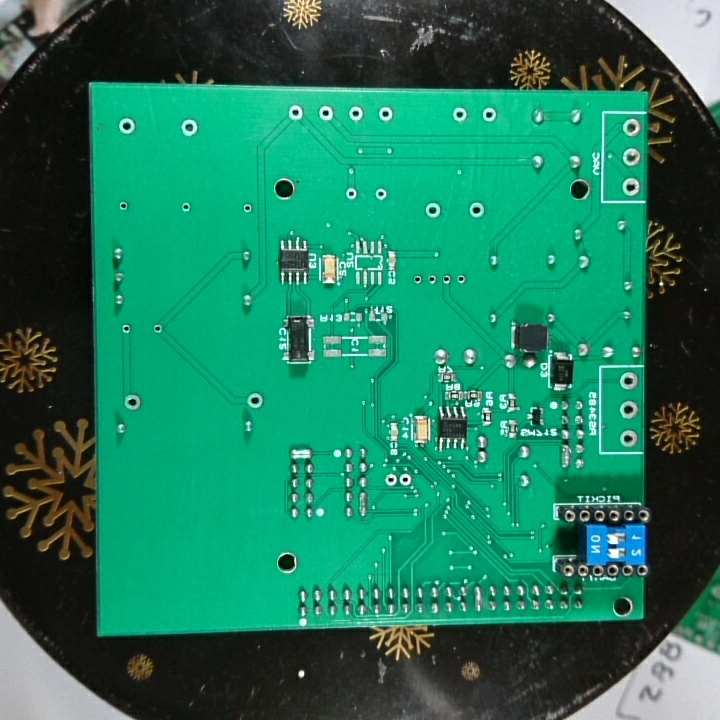F: (617, 371, 641, 394), (620, 175, 643, 198), (620, 146, 642, 169), (121, 391, 144, 413), (245, 390, 268, 412), (618, 398, 640, 420), (178, 117, 201, 138), (618, 428, 639, 450), (620, 117, 641, 139), (117, 116, 139, 137), (479, 104, 499, 126), (450, 105, 471, 125), (376, 104, 396, 125), (346, 103, 366, 124), (316, 104, 336, 124), (467, 200, 486, 220), (285, 103, 304, 123), (422, 202, 443, 220), (398, 469, 414, 490), (342, 186, 359, 203), (373, 186, 389, 203), (383, 472, 398, 490), (425, 270, 439, 289), (454, 270, 468, 288), (119, 322, 134, 338), (150, 321, 165, 337), (439, 272, 453, 289), (179, 200, 194, 215), (117, 199, 131, 215), (411, 272, 425, 288), (241, 200, 254, 217)
P: (289, 446, 314, 463), (355, 490, 370, 518), (472, 582, 484, 616), (558, 442, 573, 469)
